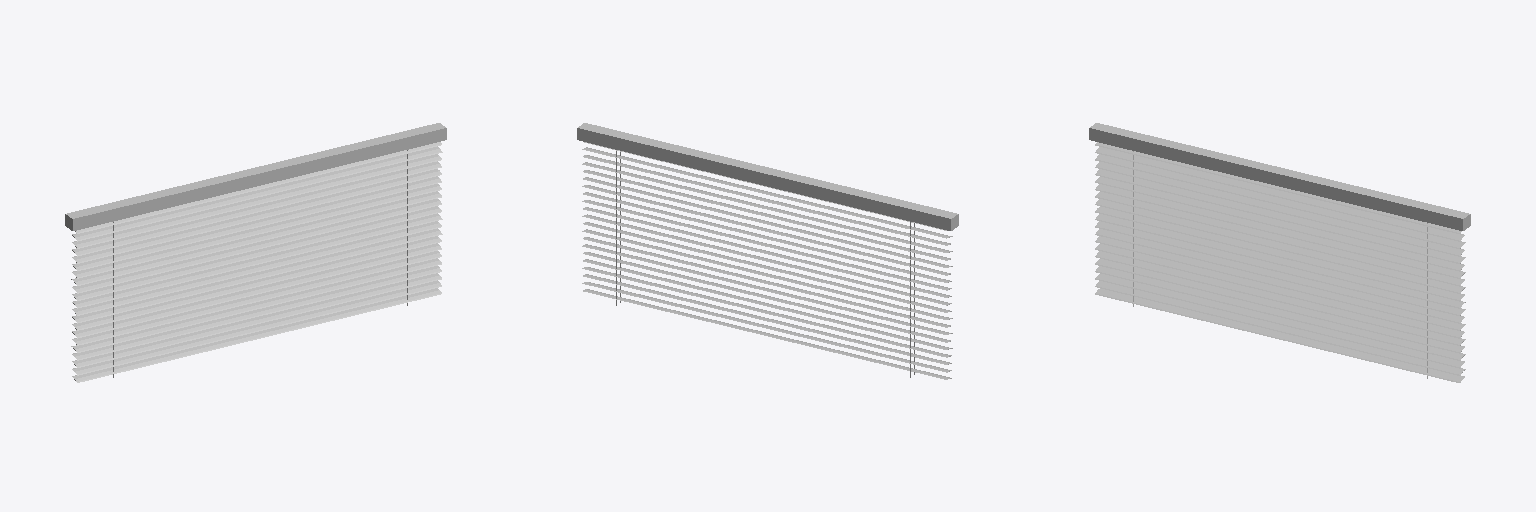
3 renders of one model, left to right at view 1: azimuth 30°, elevation 25°; view 2: azimuth 150°, elevation 25°; view 3: azimuth 330°, elevation 25°, orthographic.
Parts seen in each view (by area): view 1: Screen; view 2: Screen; view 3: Screen.
Part boxes in pixels (x1,y1,x2,y2): Screen: (65, 123, 446, 382); Screen: (577, 123, 958, 379); Screen: (1089, 123, 1470, 382).
Size of the model in its own units: 11.44 by 4.98 by 0.3834.